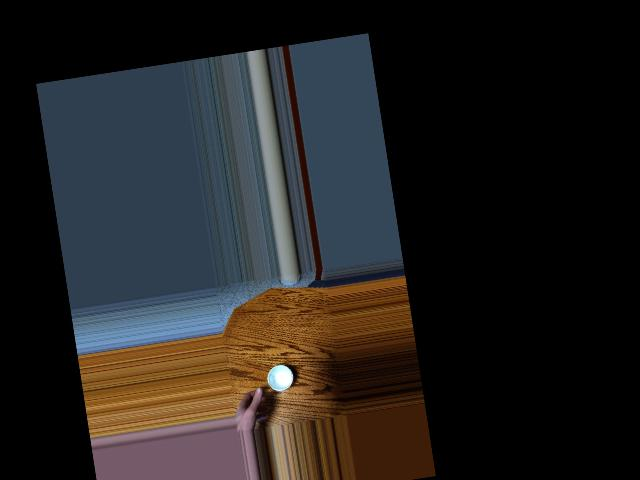cotage: (263, 363, 295, 399)
